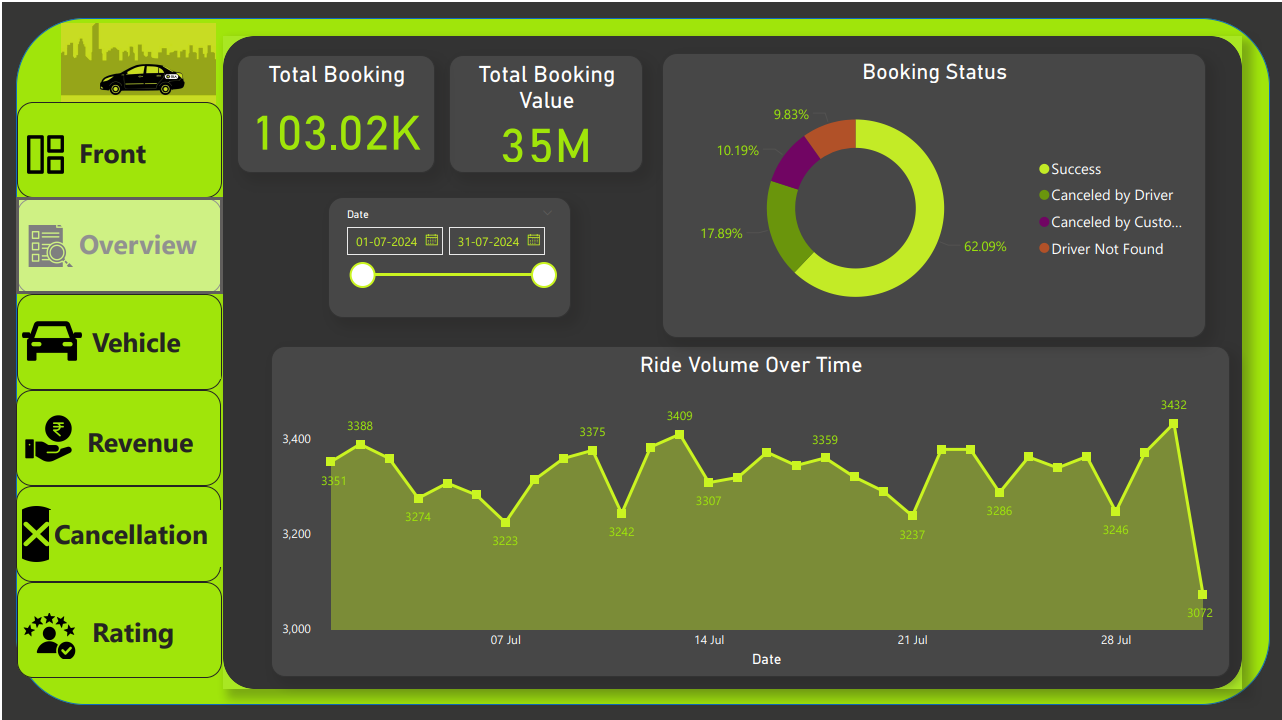

This screenshot's page, from the dashboard's own definition file:
{"tool":"powerbi","page":{"name":"Overview","canvas":[1280,720],"ordinal":1},"visuals":[{"type":"group","id":"g1","title":"Group 8","box":[12.3,8.6,1254,701.8],"z":0},{"type":"shape","box":[12.3,8.6,1254,701.8],"z":0,"group":"g1"},{"type":"shape","box":[846.1,33.9,282.6,96.7],"z":0,"group":"g4"},{"type":"shape","box":[545.2,34,275.3,97.1],"z":0,"group":"g3"},{"type":"group","id":"g2","title":"Group 2","box":[257.7,35.2,260.8,97.2],"z":0,"group":"g5"},{"type":"shape","box":[257.7,35.2,260.8,96.2],"z":0,"group":"g2"},{"type":"shape","box":[228.7,18.8,1029.2,682],"z":1000,"group":"g1"},{"type":"group","id":"g3","title":"Group 3","box":[545.2,34,275.3,99.4],"z":1000,"group":"g5"},{"type":"card","title":"Average Ride Distance (Km)","fields":{"Values":["Avg(Booking.Ride_Distance (Km))"]},"box":[916,40.8,208.9,90.3],"z":1000,"group":"g4"},{"type":"card","title":"Total Bookings","fields":{"Values":["CountNonNull(Booking.Booking_ID)"]},"box":[317.8,44.4,200.1,82.3],"z":1000,"group":"g2"},{"type":"card","title":"Total Revenue","fields":{"Values":["Sum(Booking.Booking_Value)"]},"box":[619.8,45,193.9,84.7],"z":1000,"group":"g3"},{"type":"areaChart","title":"Ride Volume over Time","fields":{"Y":["CountNonNull(Booking.Booking_ID)"],"Category":["Booking.Date"]},"box":[248.4,413,679.2,260.7],"z":1000},{"type":"group","id":"g4","title":"Group 4","box":[845.8,33.9,282.9,97.7],"z":2000,"group":"g5"},{"type":"image","box":[545.2,34,68.8,99.4],"z":2000,"group":"g3"},{"type":"image","box":[845.8,34.2,65.2,97.4],"z":2000,"group":"g4"},{"type":"image","box":[257.7,35.2,61.8,97.2],"z":2000,"group":"g2"},{"type":"barChart","title":"Average Ride Distance (Km) by Vehicle Type","fields":{"Category":["Booking.Vehicle_Type"],"Y":["Avg(Booking.Ride_Distance (Km))"]},"box":[941.3,174.3,301.9,499.5],"z":2000},{"type":"group","id":"g5","title":"Card Visuals","box":[257.7,33.9,871,99.5],"z":3000},{"type":"actionButton","box":[11.6,134.5,219.8,107],"z":4000},{"type":"donutChart","title":"Bookings by Vehicle Type","fields":{"Category":["Booking.Vehicle_Type"],"Y":["CountNonNull(Booking.Booking_ID)"]},"box":[247,174.3,336.2,223.7],"z":5000},{"type":"columnChart","title":"Average Customer Rating by Vehicle","fields":{"Category":["Booking.Vehicle_Type"],"Y":["Avg(Booking.Customer_Rating)"]},"box":[603.7,174.2,321.5,223.3],"z":6000},{"type":"actionButton","box":[1158.7,41.8,75.3,80.9],"z":7000},{"type":"shape","box":[12.8,8.7,219.6,98.2],"z":8015,"group":"g6"},{"type":"image","box":[11.6,8.7,218.4,99.4],"z":8031,"group":"g6"},{"type":"shape","box":[11.1,8.3,219.8,704],"z":9000},{"type":"image","box":[20.9,371.5,62.6,101.6],"z":10000},{"type":"textbox","box":[73,371.4,147.4,84.6],"z":11000},{"type":"actionButton","box":[15.3,371.5,210.1,101.6],"z":12000},{"type":"image","box":[20.9,257.4,58.4,103],"z":13000},{"type":"textbox","box":[72.3,285.2,148.9,55.7],"z":14000},{"type":"actionButton","box":[14.7,258.9,209.8,101.8],"z":15000},{"type":"textbox","box":[89.6,490.2,130.8,86.8],"z":17000},{"type":"image","box":[23.5,483,61.9,102.7],"z":18000},{"type":"actionButton","box":[15.3,484.2,210.1,101.6],"z":19000},{"type":"image","box":[15.3,598.3,57,101.6],"z":20000},{"type":"textbox","box":[57,634.4,171.1,50.1],"z":22000},{"type":"actionButton","box":[15.3,598.3,211.5,101.6],"z":22500},{"type":"image","box":[19.5,140.5,75.1,100.2],"z":23000},{"type":"textbox","box":[91.8,164.2,112.7,51.5],"z":24000},{"type":"actionButton","box":[14.7,141.1,209.8,100.6],"z":25000},{"type":"group","id":"g6","title":"Group 1","box":[11.6,8.7,219.8,99.8],"z":25500}]}

Visuals, with their boxes in screenshot pixels (x1, y1, x2, y2), scaled from the page's 1280x720 canvas onto the 1282x720 screenshot:
"Group 8" group: <region>12, 9, 1268, 710</region>
shape: <region>12, 9, 1268, 710</region>
shape: <region>847, 34, 1130, 131</region>
shape: <region>546, 34, 822, 131</region>
"Group 2" group: <region>258, 35, 519, 132</region>
shape: <region>258, 35, 519, 131</region>
shape: <region>229, 19, 1260, 701</region>
"Group 3" group: <region>546, 34, 822, 133</region>
"Average Ride Distance (Km)" card: <region>917, 41, 1127, 131</region>
"Total Bookings" card: <region>318, 44, 519, 127</region>
"Total Revenue" card: <region>621, 45, 815, 130</region>
"Ride Volume over Time" areaChart: <region>249, 413, 929, 674</region>
"Group 4" group: <region>847, 34, 1130, 132</region>
image: <region>546, 34, 615, 133</region>
image: <region>847, 34, 912, 132</region>
image: <region>258, 35, 320, 132</region>
"Average Ride Distance (Km) by Vehicle Type" barChart: <region>943, 174, 1245, 674</region>
"Card Visuals" group: <region>258, 34, 1130, 133</region>
actionButton: <region>12, 134, 232, 242</region>
"Bookings by Vehicle Type" donutChart: <region>247, 174, 584, 398</region>
"Average Customer Rating by Vehicle" columnChart: <region>605, 174, 927, 398</region>
actionButton: <region>1161, 42, 1236, 123</region>
shape: <region>13, 9, 233, 107</region>
image: <region>12, 9, 230, 108</region>
shape: <region>11, 8, 231, 712</region>
image: <region>21, 372, 84, 473</region>
textbox: <region>73, 371, 221, 456</region>
actionButton: <region>15, 372, 226, 473</region>
image: <region>21, 257, 79, 360</region>
textbox: <region>72, 285, 222, 341</region>
actionButton: <region>15, 259, 225, 361</region>
textbox: <region>90, 490, 221, 577</region>
image: <region>24, 483, 86, 586</region>
actionButton: <region>15, 484, 226, 586</region>
image: <region>15, 598, 72, 700</region>
textbox: <region>57, 634, 228, 684</region>
actionButton: <region>15, 598, 227, 700</region>
image: <region>20, 140, 95, 241</region>
textbox: <region>92, 164, 205, 216</region>
actionButton: <region>15, 141, 225, 242</region>
"Group 1" group: <region>12, 9, 232, 108</region>
